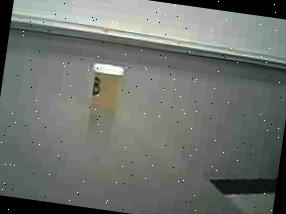Bottle B: (85, 59, 131, 114)
